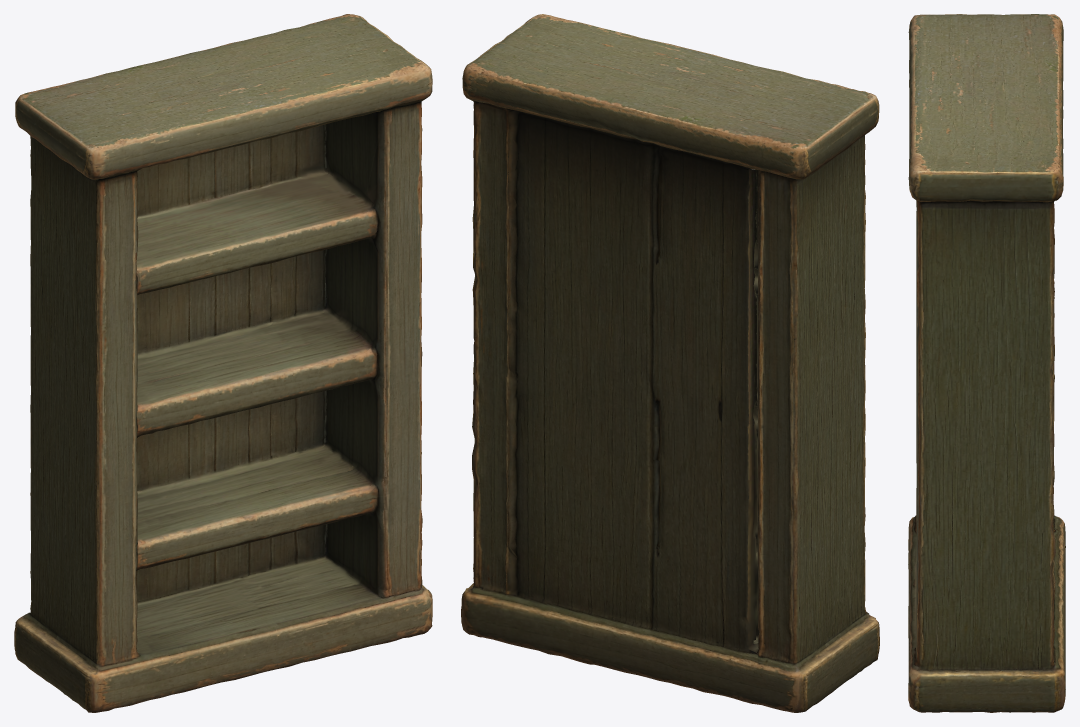
File: Furn_PantryShelf.fbx
3 renders of one model, left to right at view 1: azimuth 30°, elevation 25°; view 2: azimuth 150°, elevation 25°; view 3: azimuth 270°, elevation 25°, orthographic. The views are drawn at different scales.
Parts seen in each view (by area): view 1: texture_mapping; view 2: texture_mapping; view 3: texture_mapping.
Part boxes in pixels (x1,y1,x2,y2): texture_mapping: (14,14,432,712); texture_mapping: (461,14,879,712); texture_mapping: (908,14,1065,712).
Bounding box in the file's own units: 0.6411 × 0.2634 × 1.
Materials: 1 (1 with a texture image).
